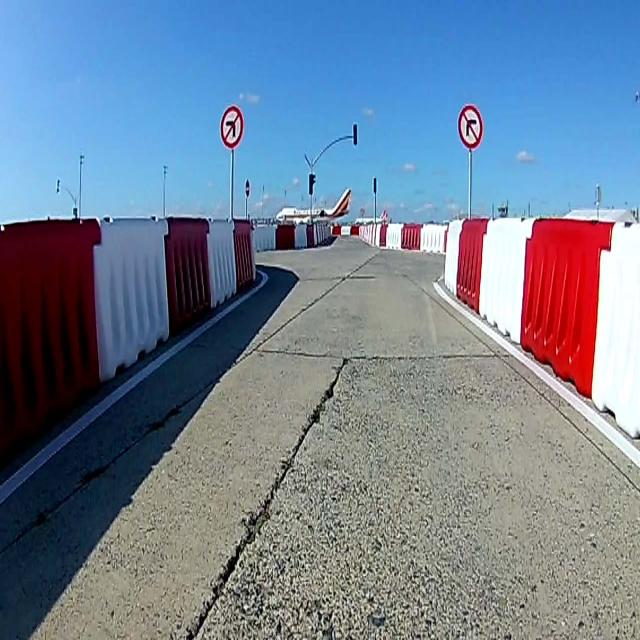sagadonulmez: (456, 102, 485, 150)
soladonulmez: (220, 104, 244, 150)
